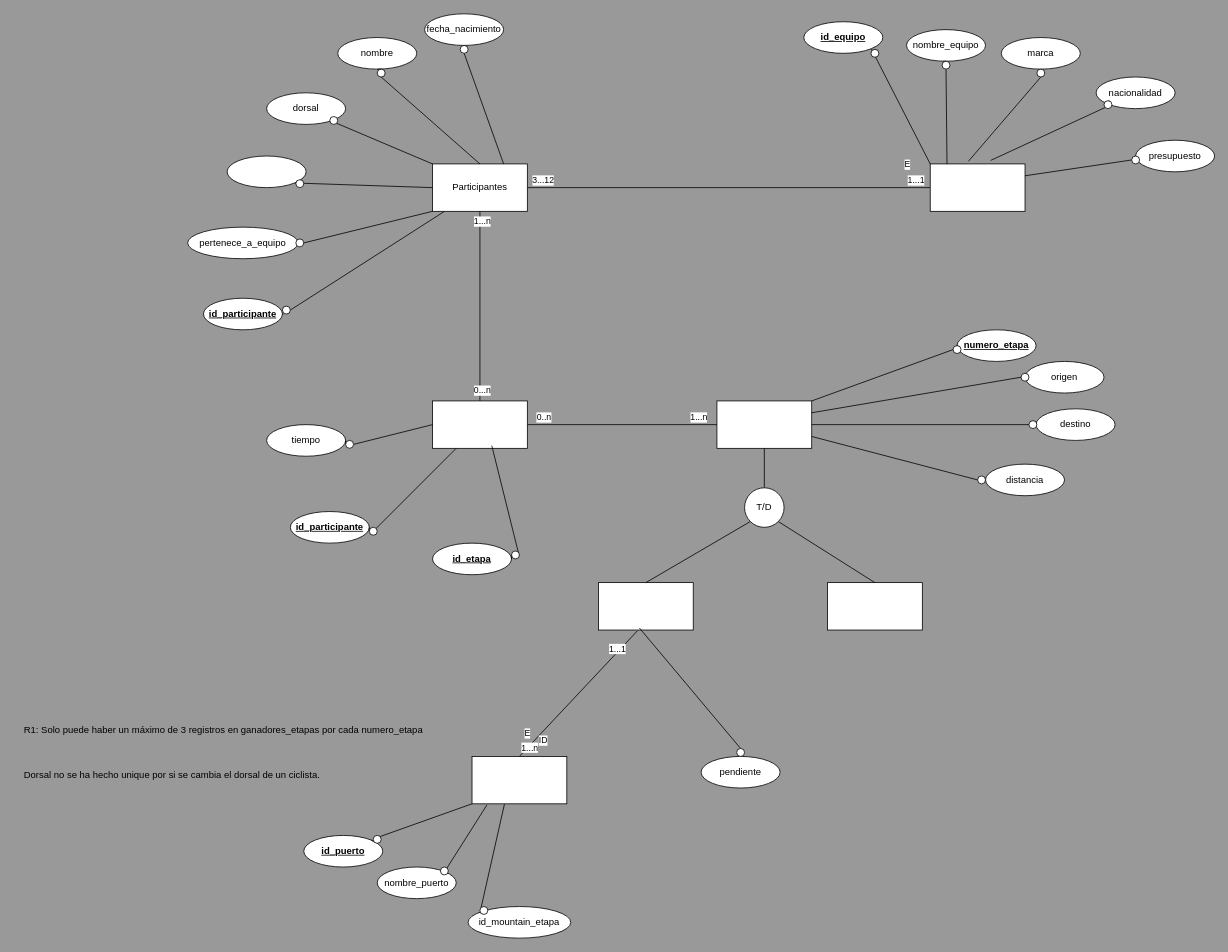
Image size: 1228x952. Some labels were removed from this diagram. The shapes that lost their labels are listed below. From the top down, each one's box as (x1, y1, x2, y2) in pixels, then its label:
(226, 155, 306, 188): apellidos
(929, 163, 1025, 211): Equipo
(432, 400, 527, 448): ganadores_etapas
(716, 400, 812, 448): etapas
(598, 582, 693, 630): mountain_etapa
(827, 582, 922, 630): contrarreloj
(471, 756, 567, 804): puertos
